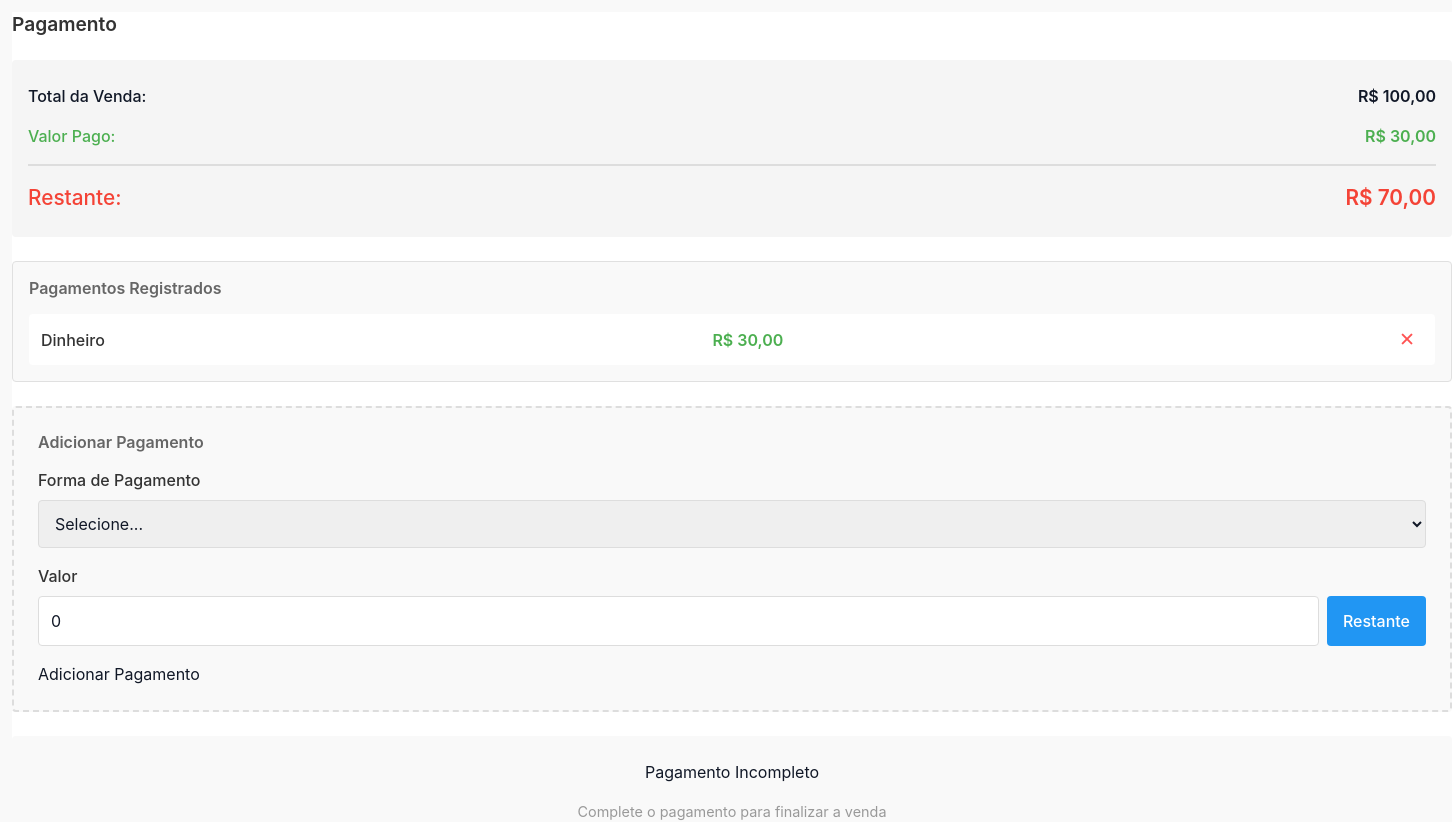
Test: POSPaymentPanel › Add Payment Form › should fill remaining amount when quick button clicked
Click the button "Restante" at (1376, 621), box [1327,596,1426,646]
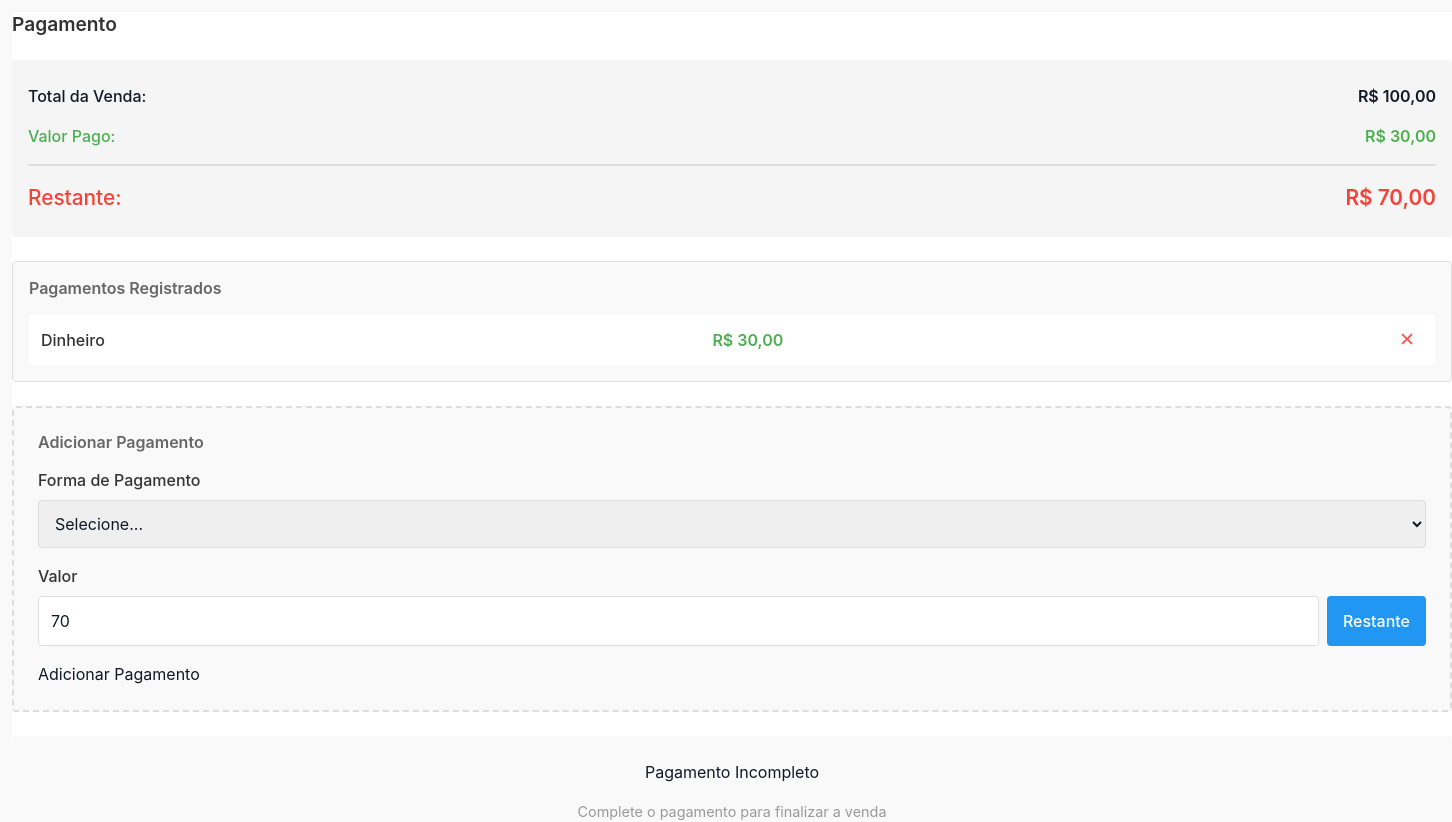
Expected: the number field labelled "Valor" holds "70", [38,596,1319,646]
